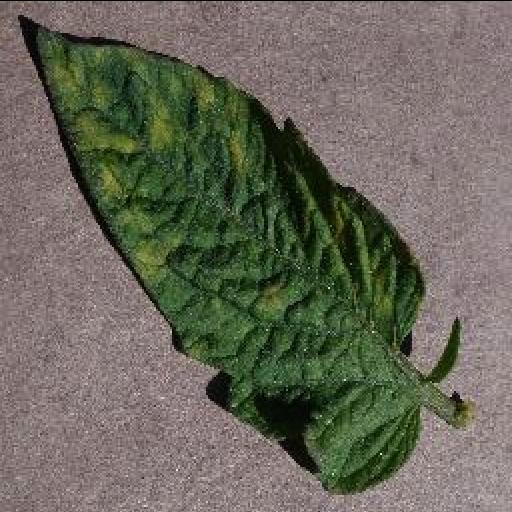disease_tomato: (32, 24, 426, 494)
